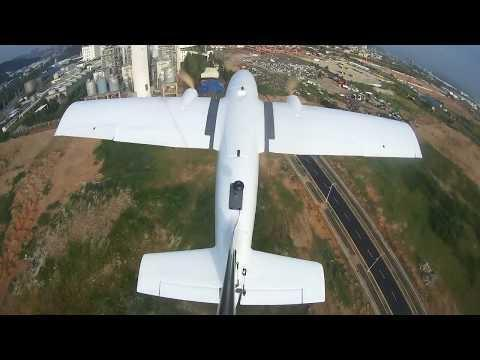Airplane: (56, 56, 432, 316)
